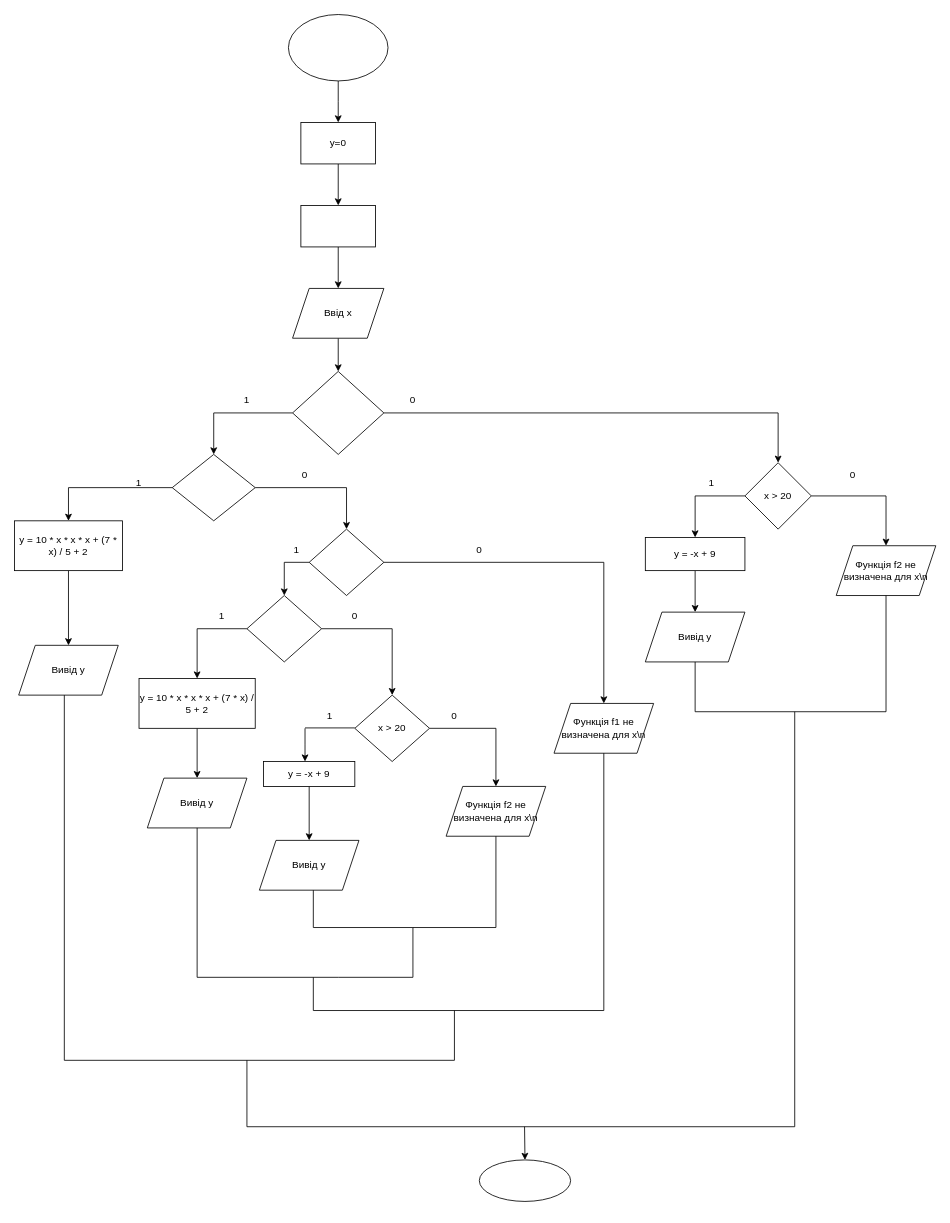
Image size: 950x1223. Some labels were removed from this diagram. The centre of each missing label's shape, as x and y in pixels:
x < -10: (x=213, y=487)
x <= 10: (x=284, y=628)
x > 0: (x=346, y=562)
x >= -49: (x=338, y=412)
x=0: (x=338, y=226)
Кінець: (x=524, y=1180)
ПОЧАТОК: (x=338, y=47)
